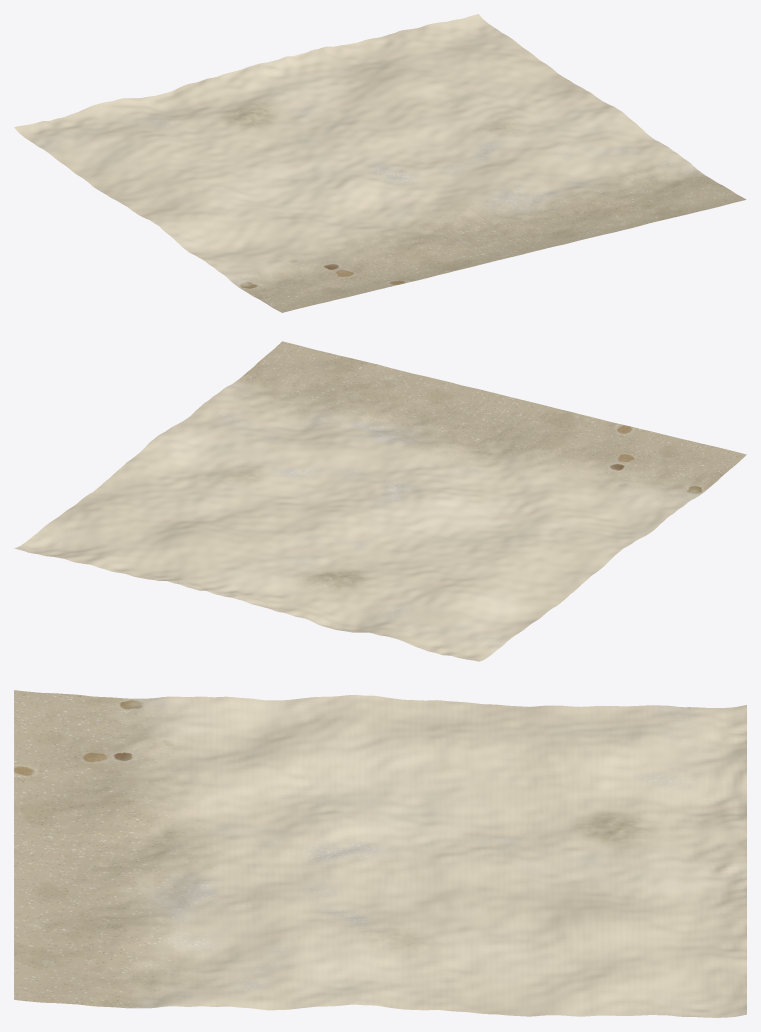
File: ReefTerrain_Lagoon.gltf
3 views of the same model, one above another, from view 1: azimuth 30°, elevation 25°; view 2: azimuth 150°, elevation 25°; view 3: azimuth 270°, elevation 25° (orthographic). The views are drawn at different scales.
Visible parts, largest first — view 1: ReefTerrain_Lagoon; view 2: ReefTerrain_Lagoon; view 3: ReefTerrain_Lagoon.
Part boxes in pixels (<box>): ReefTerrain_Lagoon: <box>14,14,746,312</box>; ReefTerrain_Lagoon: <box>14,341,746,661</box>; ReefTerrain_Lagoon: <box>14,690,746,1017</box>.
Bounding box in the file's own units: 40 × 1.44 × 40.
Materials: 1 (1 with a texture image).
